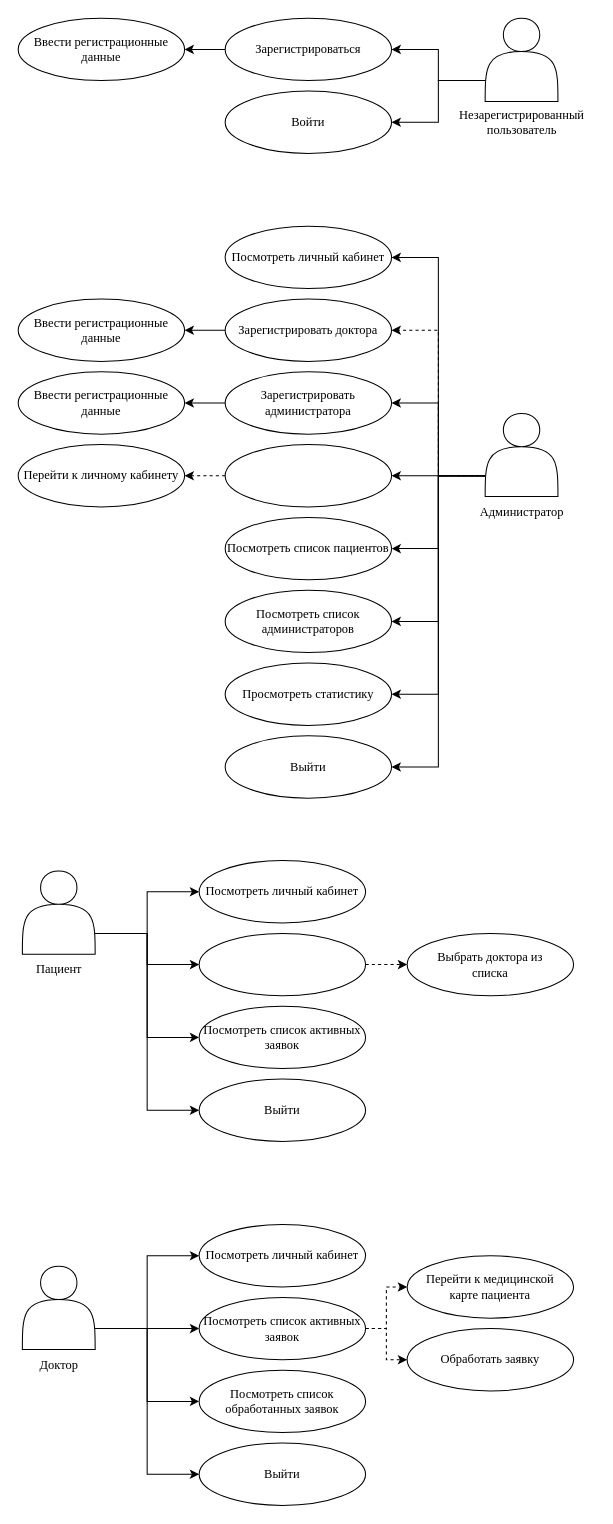
The diagram is 613 pixels wide and 1524 high, and some of its shapes have lost their labels. The box of each missing label's shape, as (x1, y1, x2, y2) in pixels:
Оставить заявку на прием: (198, 932, 366, 996)
Посмотреть список докторов: (224, 444, 392, 507)
